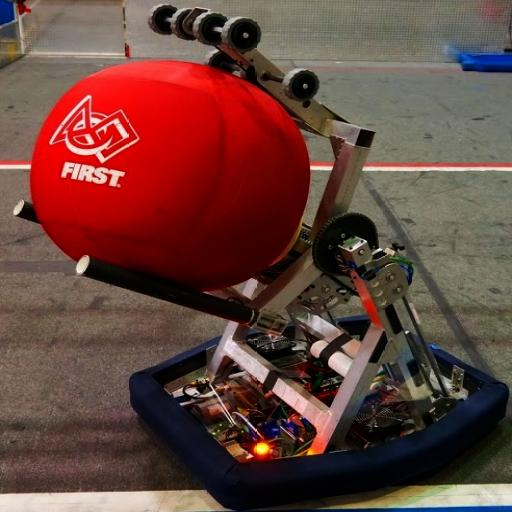robot: (21, 4, 510, 504)
